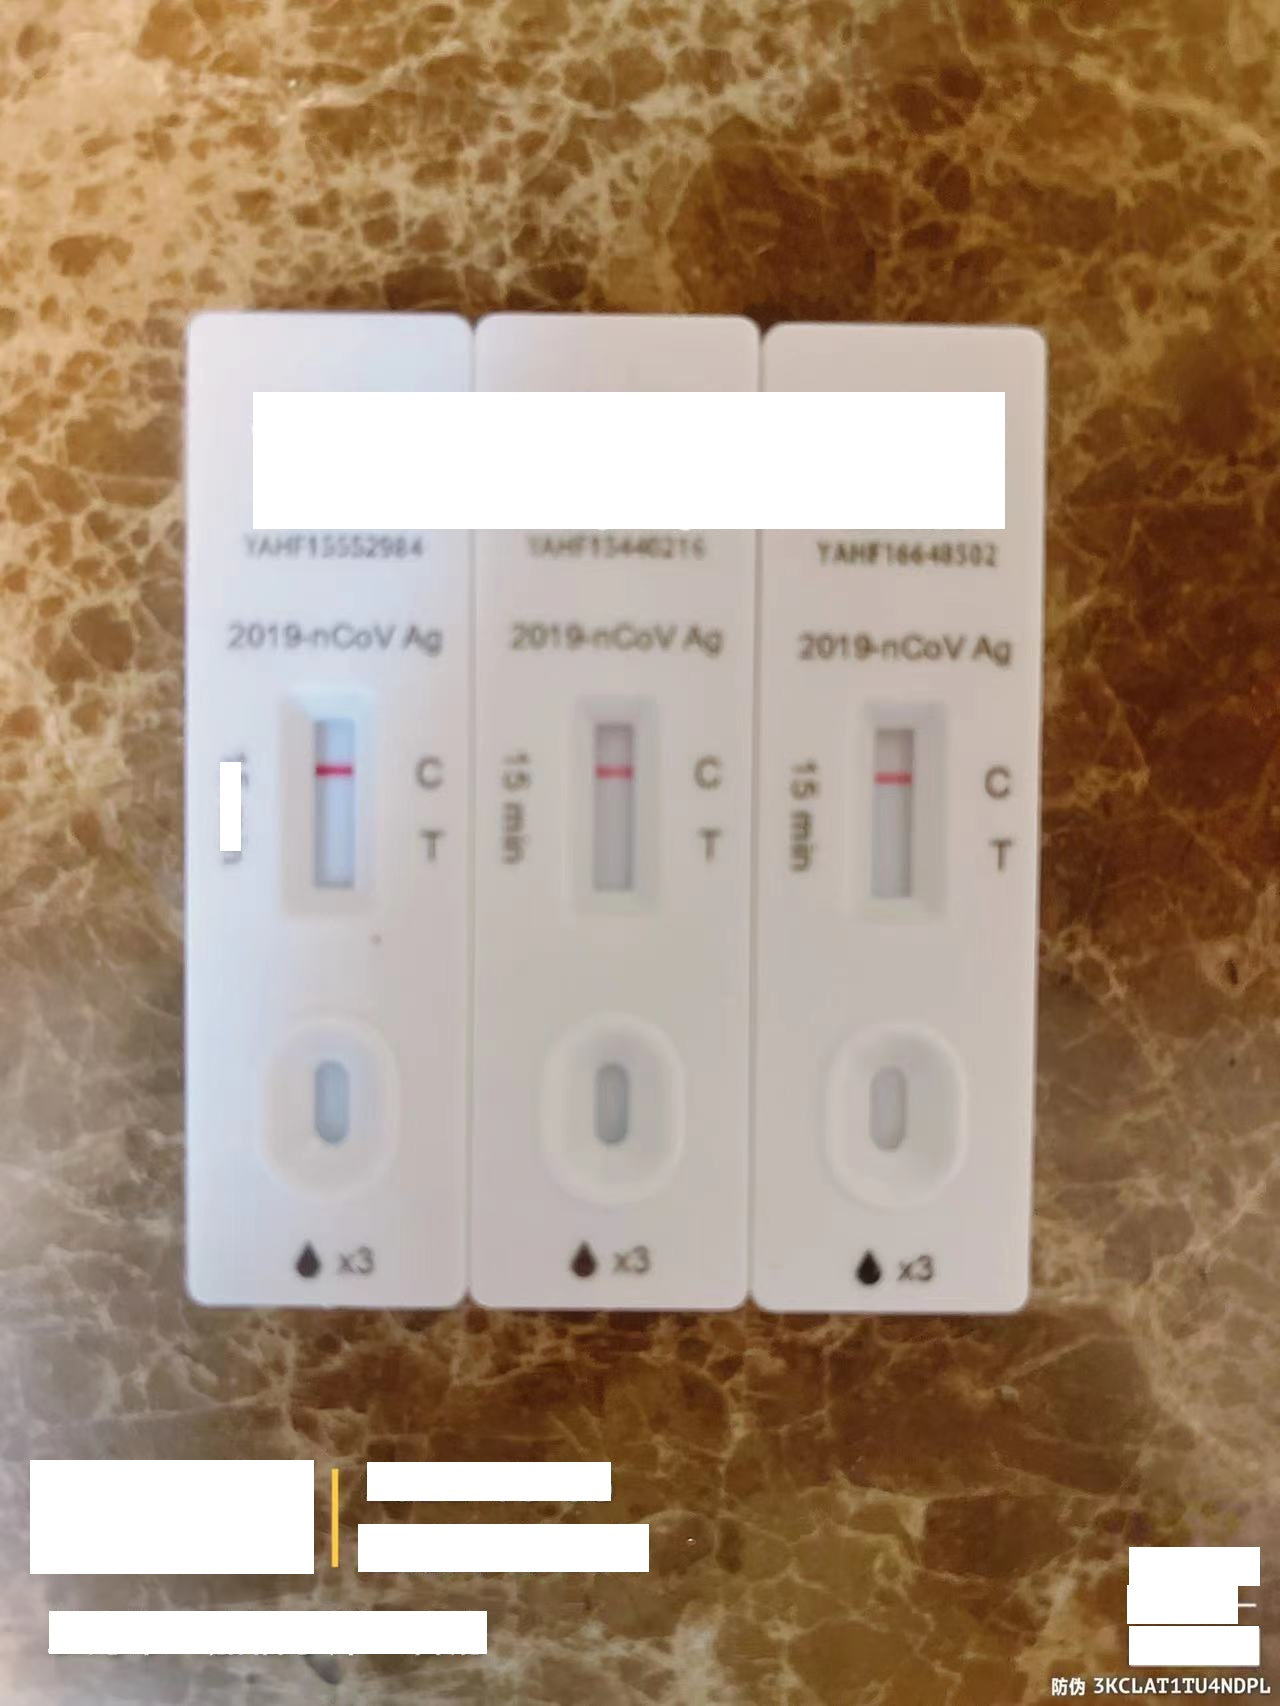negative: (280, 687, 375, 901), (570, 695, 664, 903), (856, 704, 941, 916)
